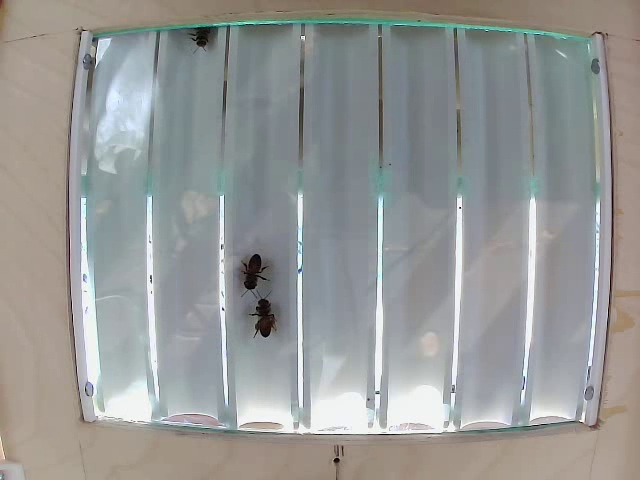bee: (233, 251, 270, 293), (245, 302, 278, 340), (199, 27, 225, 64)
